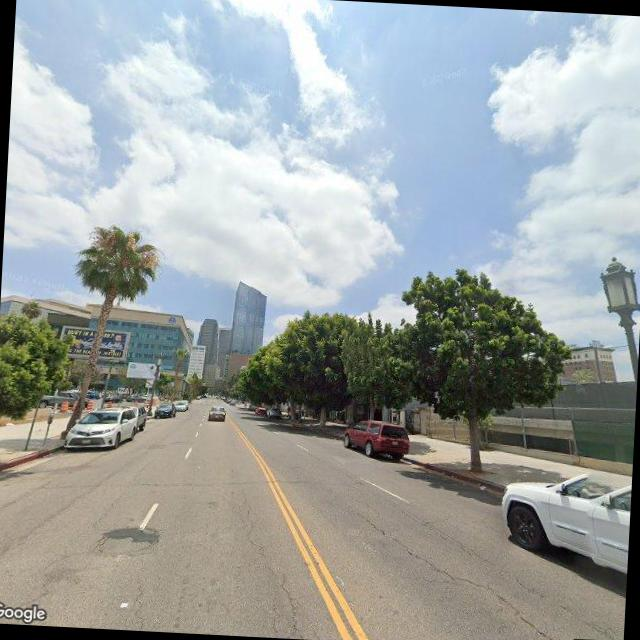crack: (349, 506, 547, 634), (372, 488, 565, 606), (230, 490, 310, 638), (126, 570, 150, 630)
pothole: (89, 521, 161, 561)
